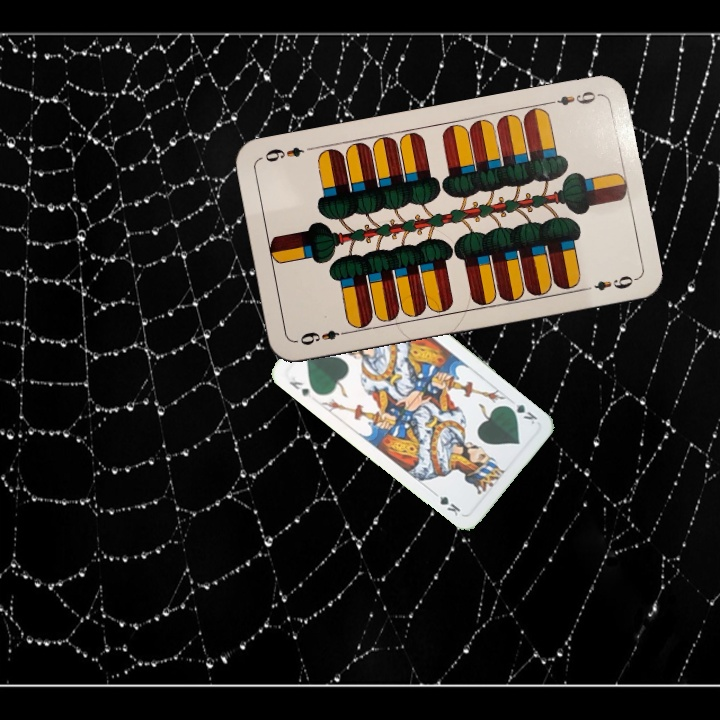E9: (296, 325, 352, 348), (544, 87, 603, 108)
GK: (503, 400, 540, 427), (285, 377, 315, 400)
